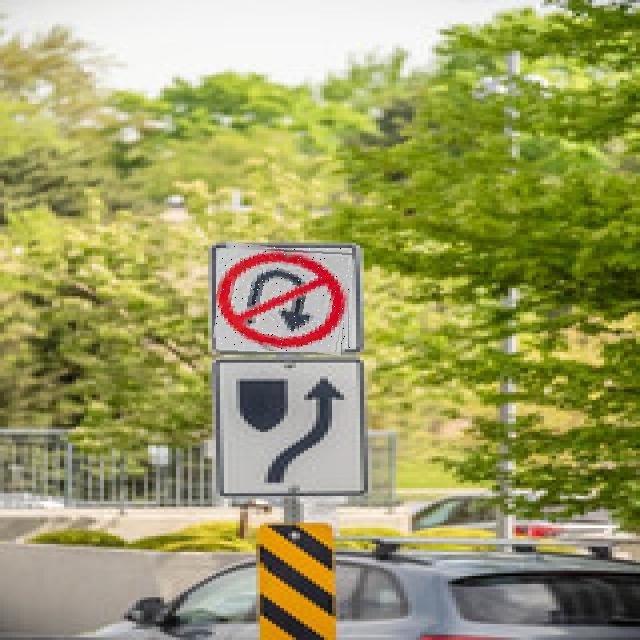no u turn: (216, 246, 352, 352)
